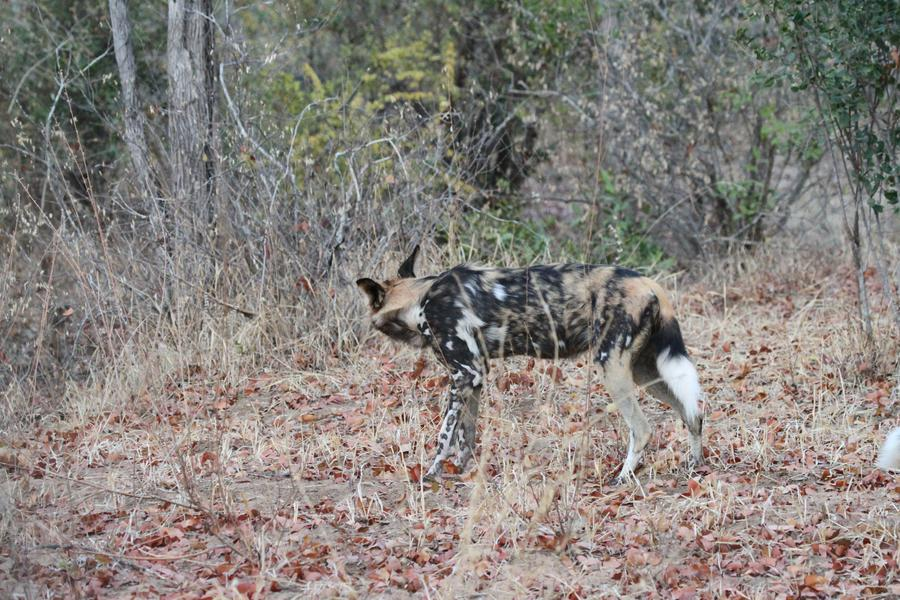wilddog: (333, 235, 677, 414)
